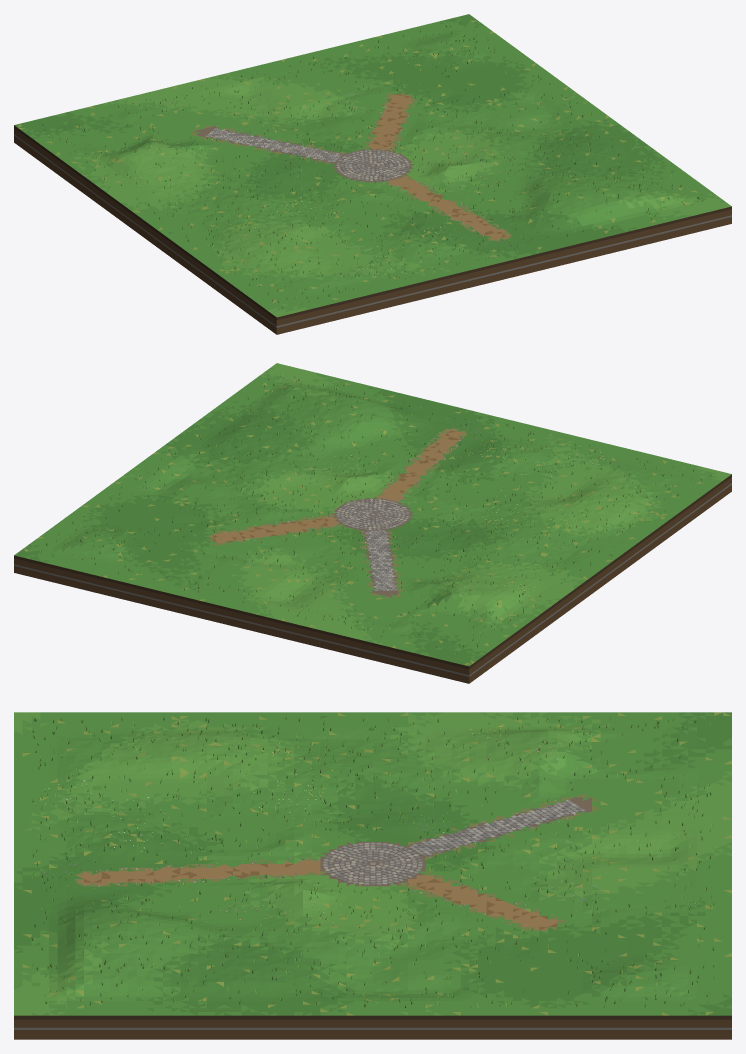
Rendered from terrain.glb.
3 views of the same model, one above another, from view 1: azimuth 30°, elevation 25°; view 2: azimuth 150°, elevation 25°; view 3: azimuth 270°, elevation 25° (orthographic). The views are drawn at different scales.
Visible parts, largest first — view 1: terrain_ground-col, terrain_flora, terrain_cobble; view 2: terrain_ground-col, terrain_flora, terrain_cobble; view 3: terrain_ground-col, terrain_flora, terrain_cobble.
Boxes of the visible parts, bbox=[...] form: terrain_ground-col: bbox=[14, 14, 731, 334]; terrain_flora: bbox=[42, 22, 702, 308]; terrain_cobble: bbox=[206, 128, 409, 181]; terrain_ground-col: bbox=[14, 363, 731, 683]; terrain_flora: bbox=[40, 374, 711, 655]; terrain_cobble: bbox=[336, 499, 409, 591]; terrain_ground-col: bbox=[14, 712, 731, 1039]; terrain_flora: bbox=[31, 716, 714, 1007]; terrain_cobble: bbox=[323, 800, 585, 885].
Bounding box in the file's own units: 41 × 2.71 × 41.
